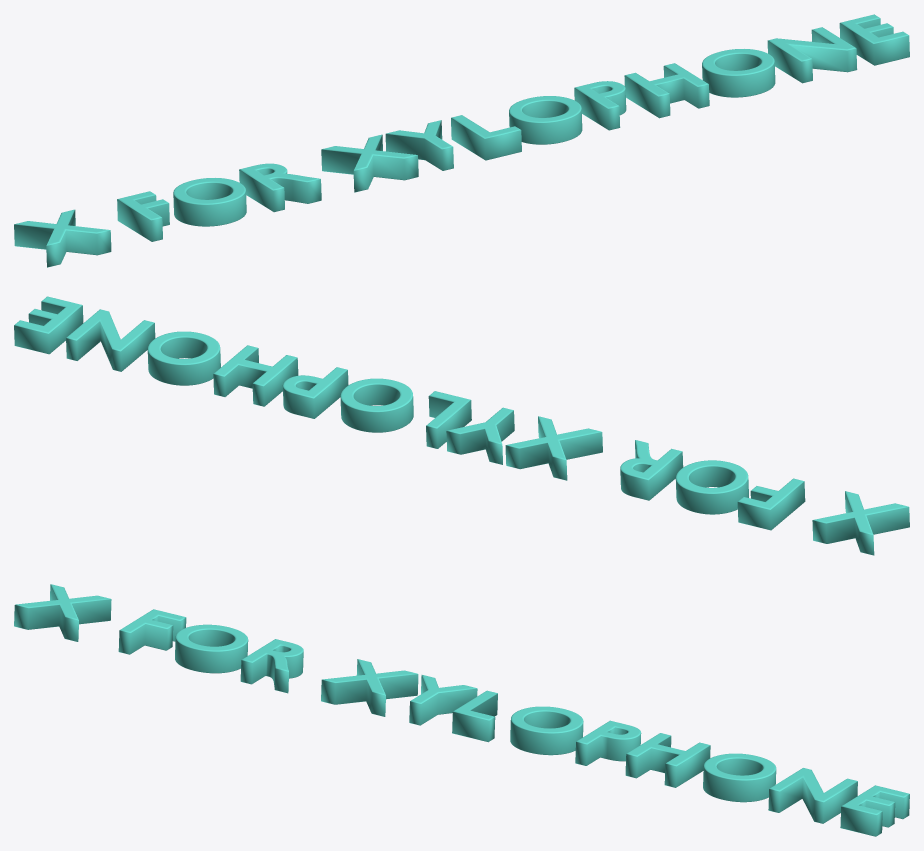
Rendered from XYLOPHONE.fbx.
The picture shows the model from 3 angles, top to bottom: view 1: azimuth 30°, elevation 25°; view 2: azimuth 150°, elevation 25°; view 3: azimuth 330°, elevation 25°; orthographic projection.
Visible parts, largest first — view 1: Text.002; view 2: Text.002; view 3: Text.002.
Part boxes in pixels (x1,y1,x2,y2): Text.002: [14, 14, 909, 267]; Text.002: [14, 296, 909, 555]; Text.002: [14, 584, 909, 836].
Bounding box in the file's own units: 1056 × 30.47 × 75.37.
